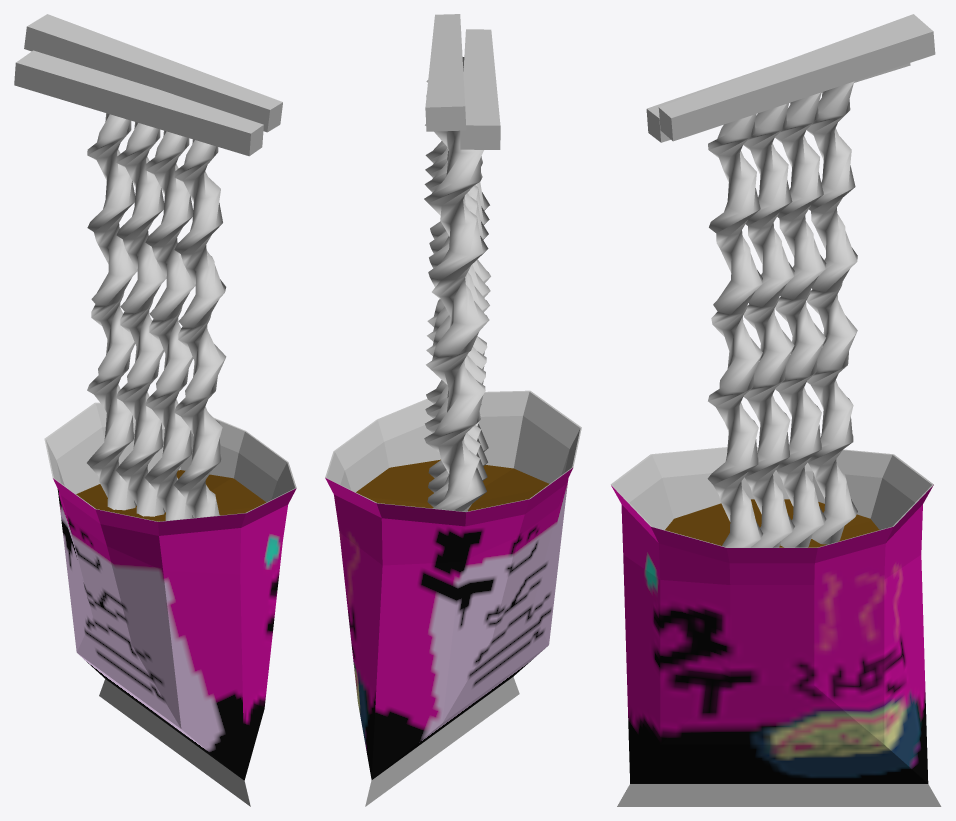
File: 086_Ramen.fbx
3 views of the same model, side by side, from view 1: azimuth 30°, elevation 25°; view 2: azimuth 150°, elevation 25°; view 3: azimuth 270°, elevation 25° (orthographic). The views are drawn at different scales.
Parts seen in each view (by area): view 1: Cube; view 2: Cube; view 3: Cube.
Part boxes in pixels (box(x1,y1,x2,y2)): Cube: box(14, 14, 296, 806); Cube: box(325, 14, 581, 806); Cube: box(610, 14, 941, 806).
Size of the model in its own units: 31.2 by 105 by 42.26.
